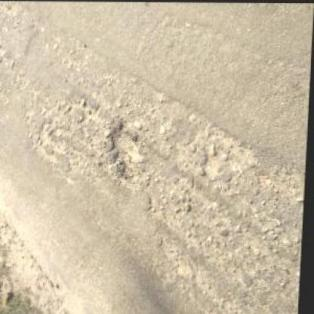Hueco: (108, 121, 143, 176)
